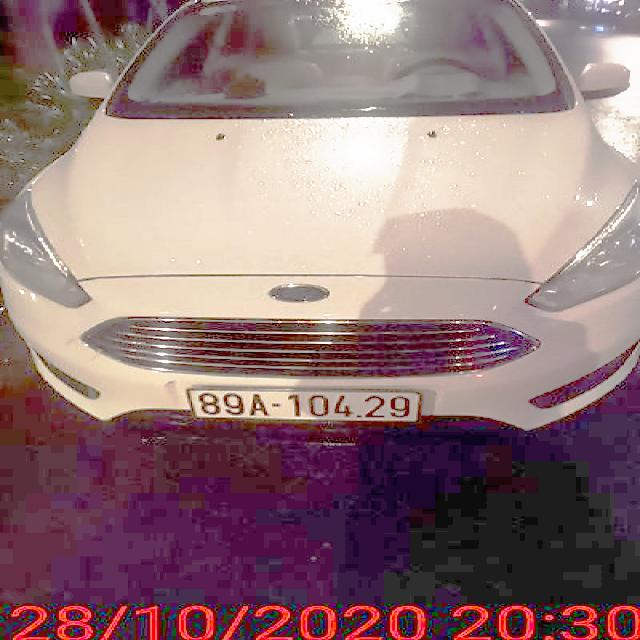license_plate: (187, 390, 426, 422)
